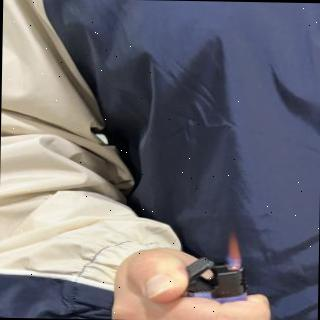fire: (228, 234, 242, 268)
